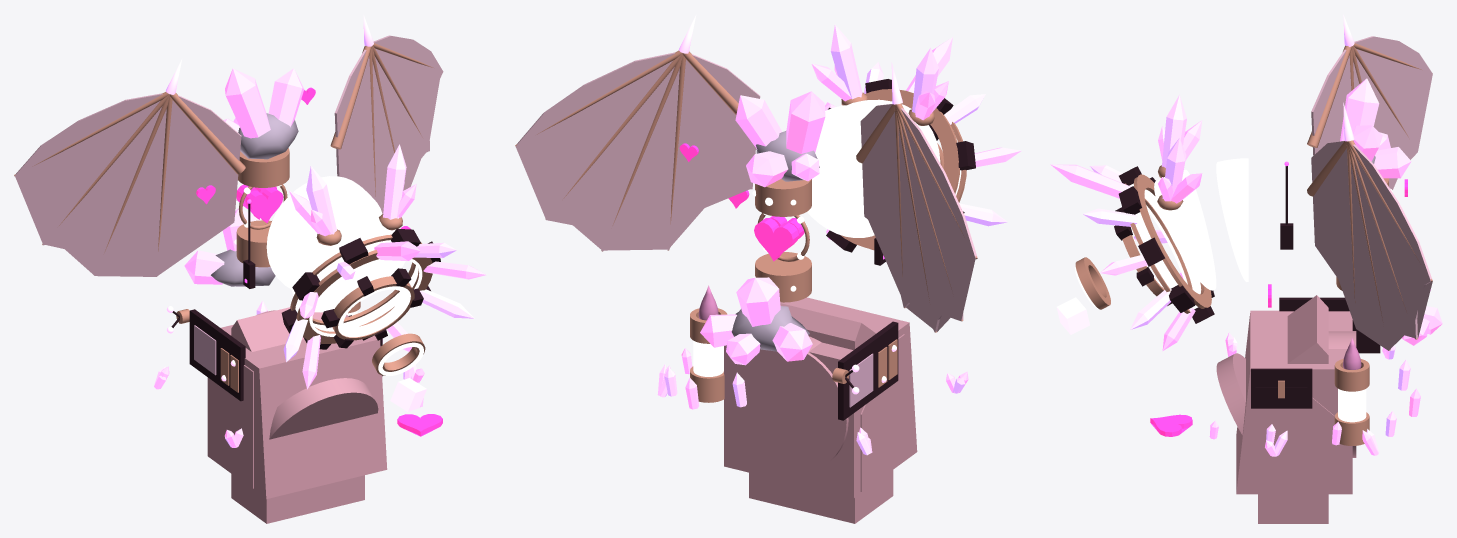
File: RoseQuartzMine_Roblox.fbx
The picture shows the model from 3 angles, left to right: view 1: azimuth 30°, elevation 25°; view 2: azimuth 150°, elevation 25°; view 3: azimuth 270°, elevation 25°; orthographic projection. The views are drawn at different scales.
Visible parts, largest first — view 1: WingMembrane, Stone, Neon, Crystal, RoseGold, Black, WingBone, LilacCrystal, Rock, HeartGem, Ore, Screen; view 2: WingMembrane, Stone, Crystal, RoseGold, Neon, WingBone, LilacCrystal, Black, Rock, HeartGem, Screen; view 3: WingMembrane, Stone, Crystal, Neon, Black, RoseGold, LilacCrystal, WingBone, HeartGem, Ore.
Part boxes in pixels (box(x1,y1,x2,y2)): WingMembrane: box(14, 35, 443, 276); Stone: box(207, 307, 387, 523); Neon: box(234, 176, 423, 375); Crystal: box(154, 68, 486, 447); RoseGold: box(176, 148, 432, 392); Black: box(171, 203, 440, 401); WingBone: box(14, 43, 433, 252); LilacCrystal: box(154, 15, 474, 447); Rock: box(211, 113, 298, 286); HeartGem: box(196, 87, 442, 436); Ore: box(390, 378, 426, 411); Screen: box(194, 325, 216, 375); WingMembrane: box(515, 52, 977, 332); Stone: box(724, 297, 917, 523); Crystal: box(657, 37, 1021, 454); RoseGold: box(690, 89, 966, 402); Neon: box(693, 99, 961, 376); WingBone: box(515, 50, 977, 332); LilacCrystal: box(659, 15, 1007, 455); Black: box(826, 79, 975, 420); Rock: box(731, 131, 819, 351); HeartGem: box(679, 143, 804, 261); Screen: box(849, 353, 873, 407); WingMembrane: box(1311, 36, 1432, 350); Stone: box(1216, 295, 1356, 523); Crystal: box(1050, 78, 1442, 456); Neon: box(1074, 158, 1392, 422); Black: box(1114, 166, 1380, 408); RoseGold: box(1075, 165, 1388, 445); LilacCrystal: box(1083, 14, 1410, 456); WingBone: box(1307, 43, 1432, 350); HeartGem: box(1150, 179, 1407, 436); Ore: box(1056, 297, 1089, 334).
Bounding box in the file's own units: 2094 × 2073 × 1669.
